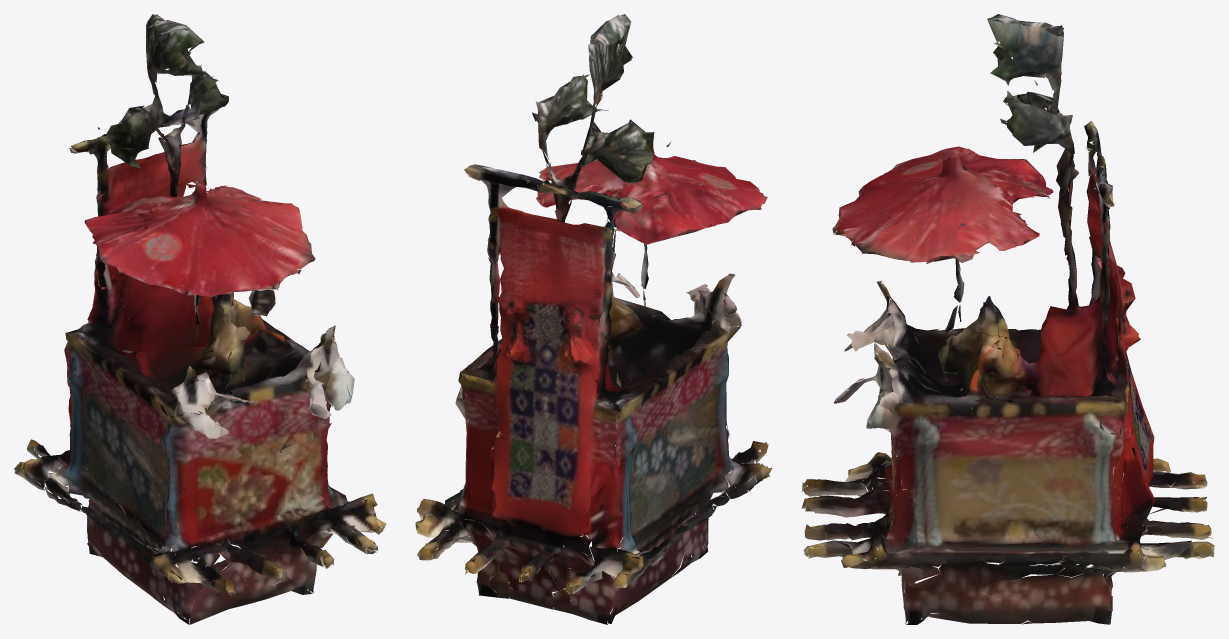
Rendered from 山伏山.glb.
3 renders of one model, left to right at view 1: azimuth 30°, elevation 25°; view 2: azimuth 150°, elevation 25°; view 3: azimuth 270°, elevation 25°, orthographic. The views are drawn at different scales.
Visible parts, largest first — view 1: mesh; view 2: mesh; view 3: mesh.
Part boxes in pixels (x1,y1,x2,y2): mesh: (14, 14, 386, 624); mesh: (415, 14, 771, 624); mesh: (801, 14, 1214, 624).
Bounding box in the file's own units: 2.46 × 5.34 × 3.53.
1 material, 1 textured.
